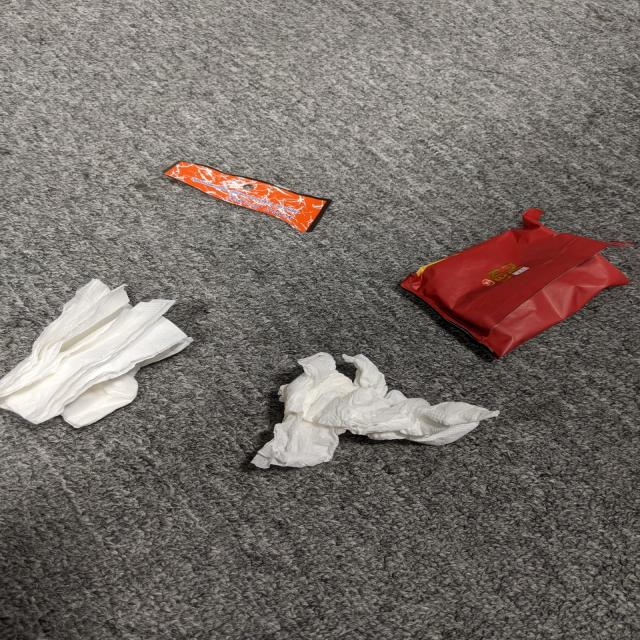napkin: (0, 276, 194, 428), (249, 352, 500, 469)
packet: (162, 161, 332, 232)
snack package: (398, 208, 634, 358)
